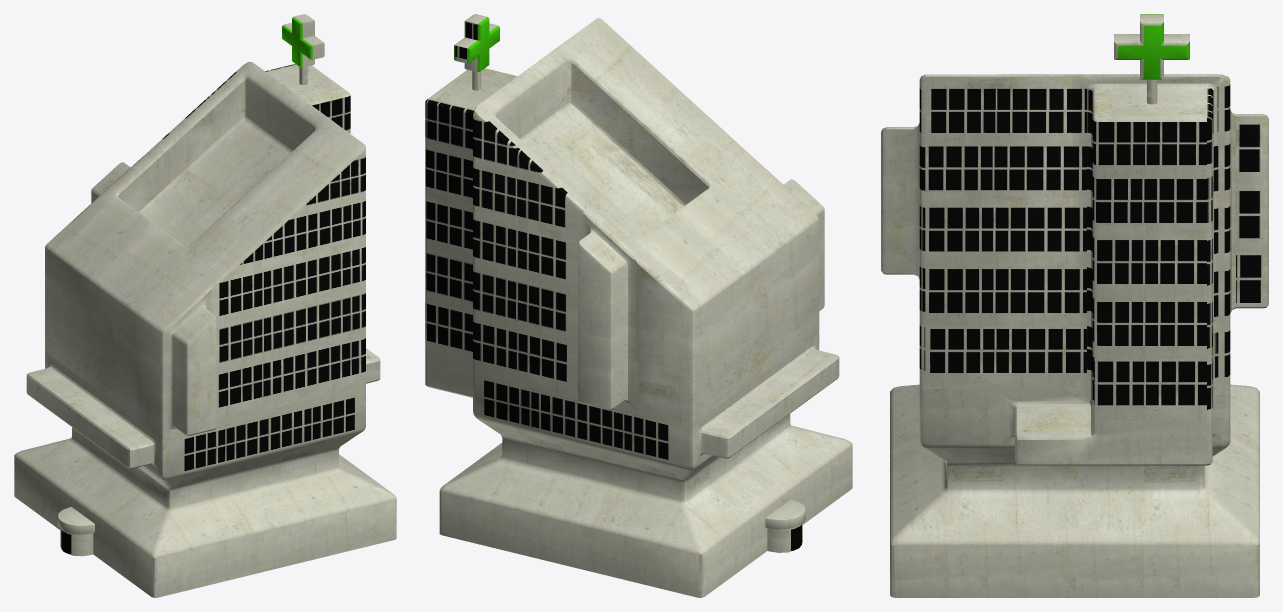
File: AndyHospital.fbx
3 renders of one model, left to right at view 1: azimuth 30°, elevation 25°; view 2: azimuth 150°, elevation 25°; view 3: azimuth 270°, elevation 25°, orthographic. The views are drawn at different scales.
Parts seen in each view (by area): view 1: Cyber Skyscraper.014; view 2: Cyber Skyscraper.014; view 3: Cyber Skyscraper.014.
Part boxes in pixels (x1,y1,x2,y2): Cyber Skyscraper.014: (14, 14, 396, 597); Cyber Skyscraper.014: (425, 14, 852, 597); Cyber Skyscraper.014: (881, 14, 1268, 597).
Bounding box in the file's own units: 4738 × 6760 × 4072.
